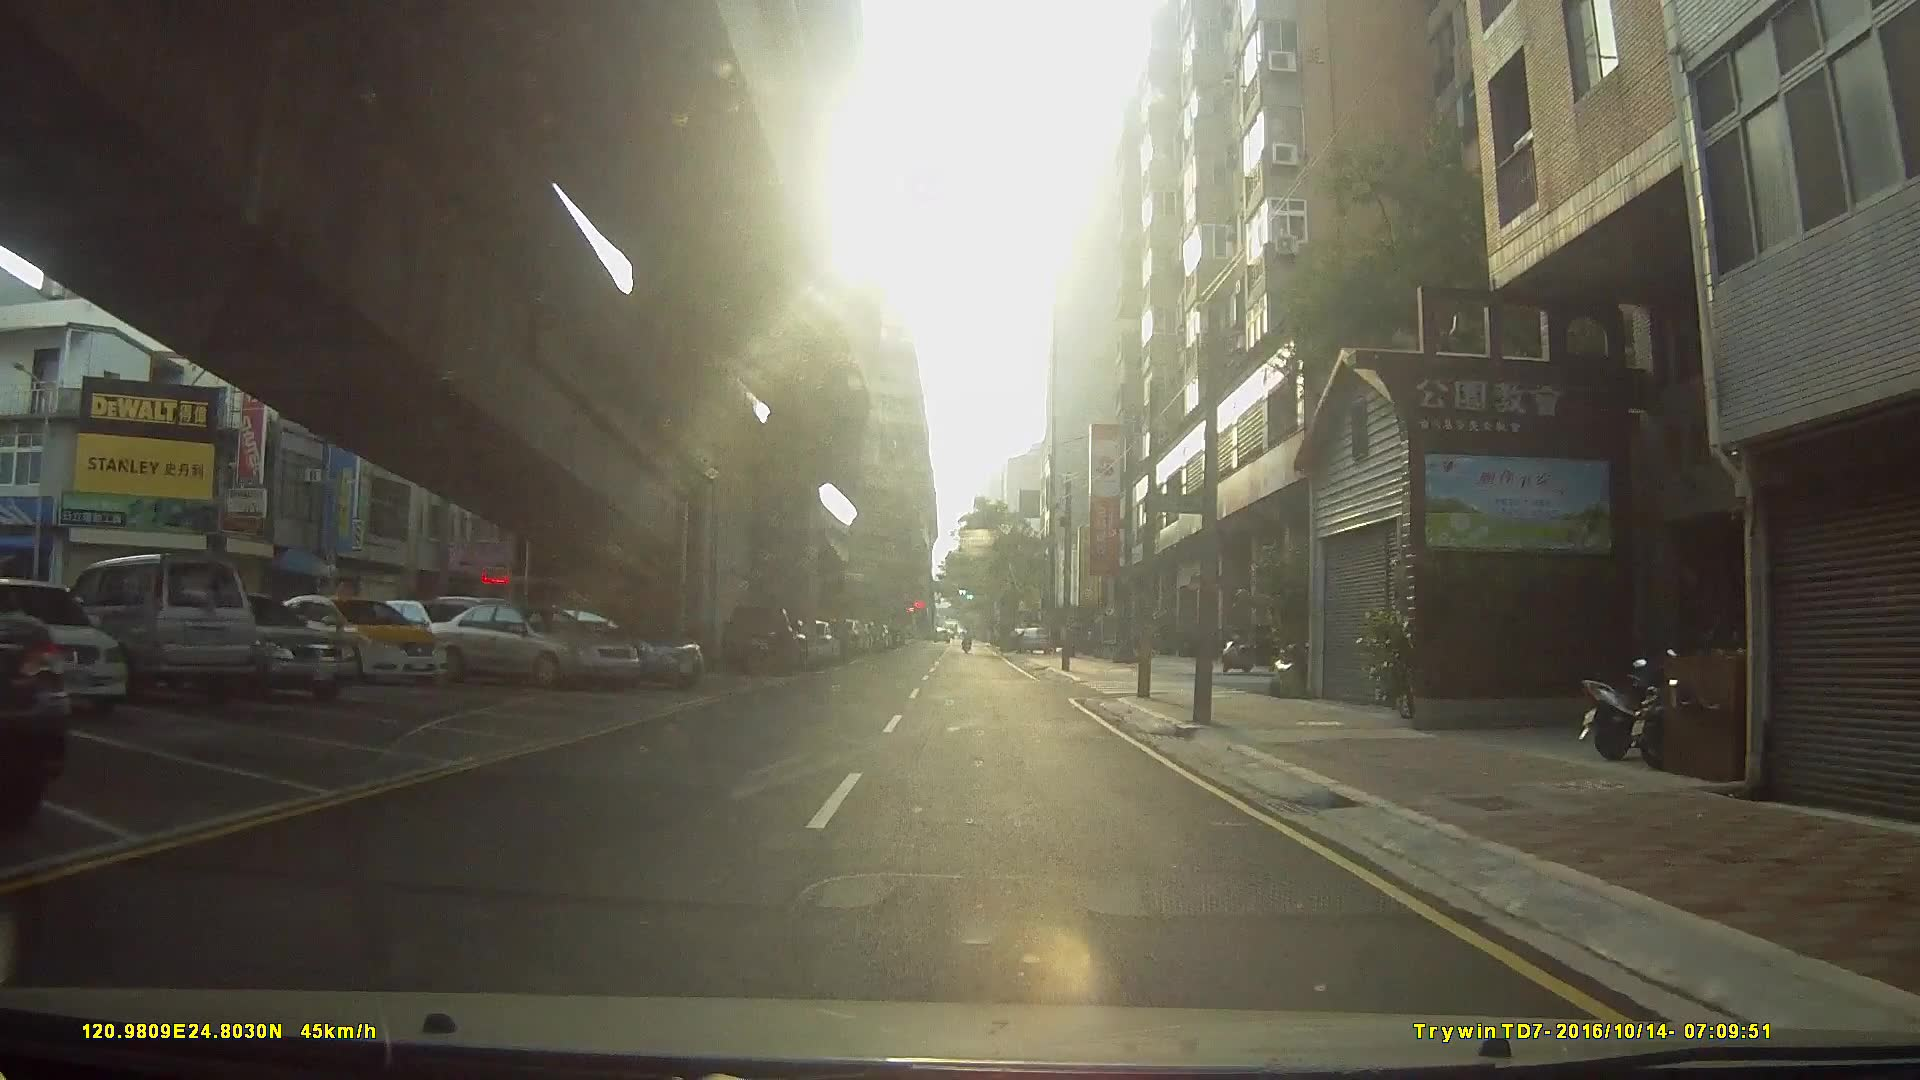vehicle: (53, 553, 258, 703), (142, 589, 361, 702), (414, 597, 636, 687), (492, 600, 704, 690), (0, 579, 127, 717), (0, 583, 67, 827), (274, 592, 444, 683), (717, 600, 804, 675)
